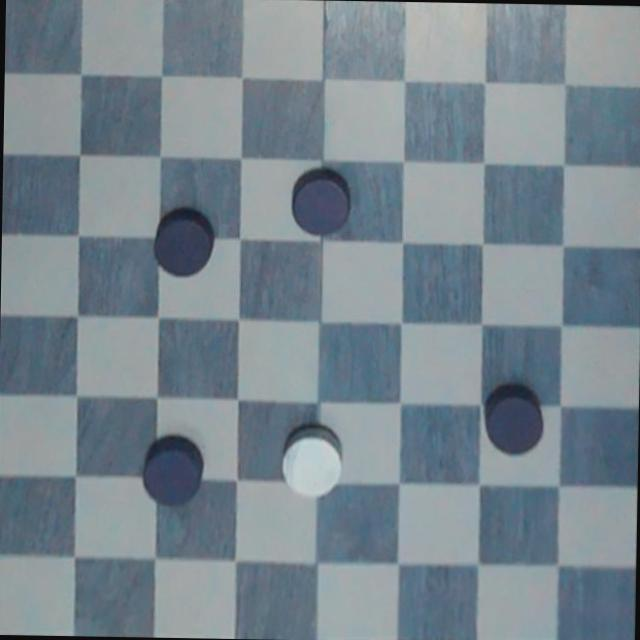BOARD: (0, 0, 640, 640)
black: (133, 430, 211, 510), (282, 163, 359, 242), (478, 378, 550, 462), (149, 202, 220, 282)
white: (275, 418, 345, 506)
